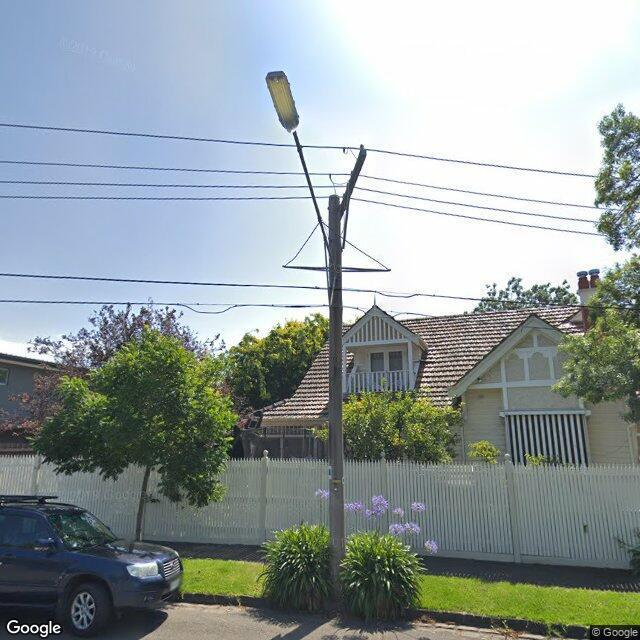crossarm: (328, 144, 368, 220)
streetlight: (266, 70, 336, 268)
timber-pole: (327, 194, 346, 600)
